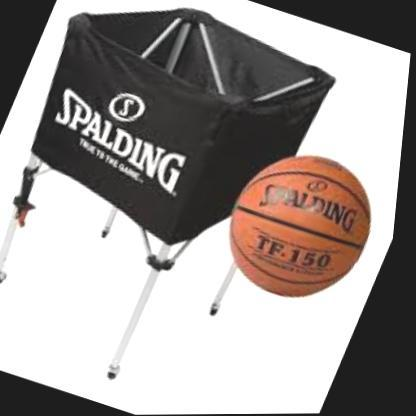basketball: (210, 139, 397, 315)
